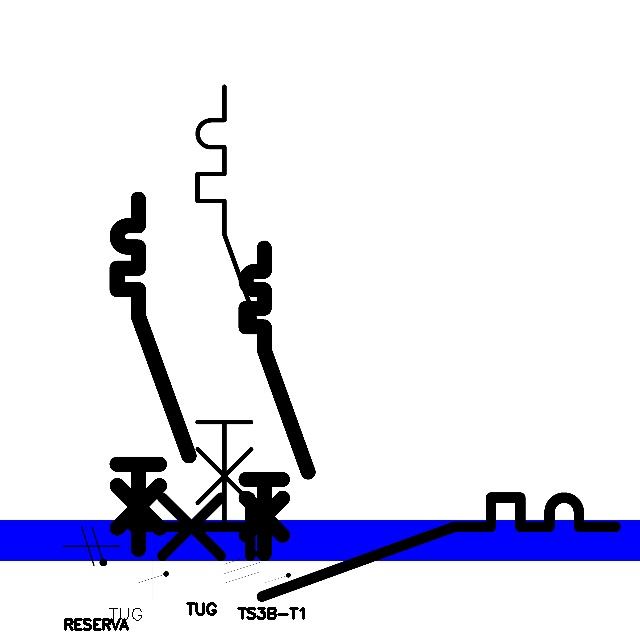interruptor_termomagnetico: (120, 485, 628, 609), (186, 75, 300, 541), (108, 190, 198, 558), (238, 240, 316, 561)
